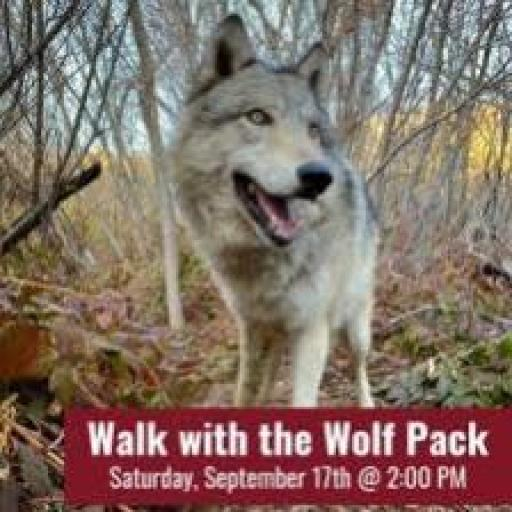wolf: (156, 9, 420, 408)
